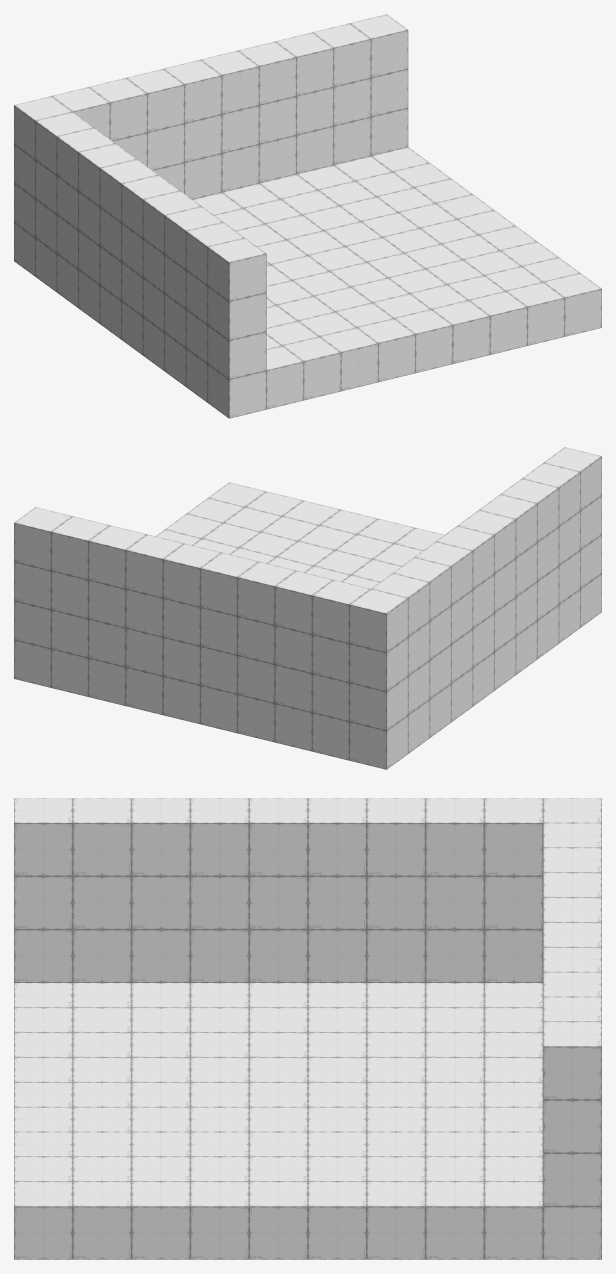
Rendered from ProB_Floor_LWall_10x10.fbx.
3 renders of one model, top to bottom at view 1: azimuth 30°, elevation 25°; view 2: azimuth 150°, elevation 25°; view 3: azimuth 270°, elevation 25°, orthographic. The views are drawn at different scales.
Parts seen in each view (by area): view 1: ProB_Floor_LWall_10x10; view 2: ProB_Floor_LWall_10x10; view 3: ProB_Floor_LWall_10x10.
Part boxes in pixels (x1,y1,x2,y2): ProB_Floor_LWall_10x10: (14,14,601,418); ProB_Floor_LWall_10x10: (14,447,601,769); ProB_Floor_LWall_10x10: (14,798,601,1259).
Bounding box in the file's own units: 1000 × 400 × 1000.
